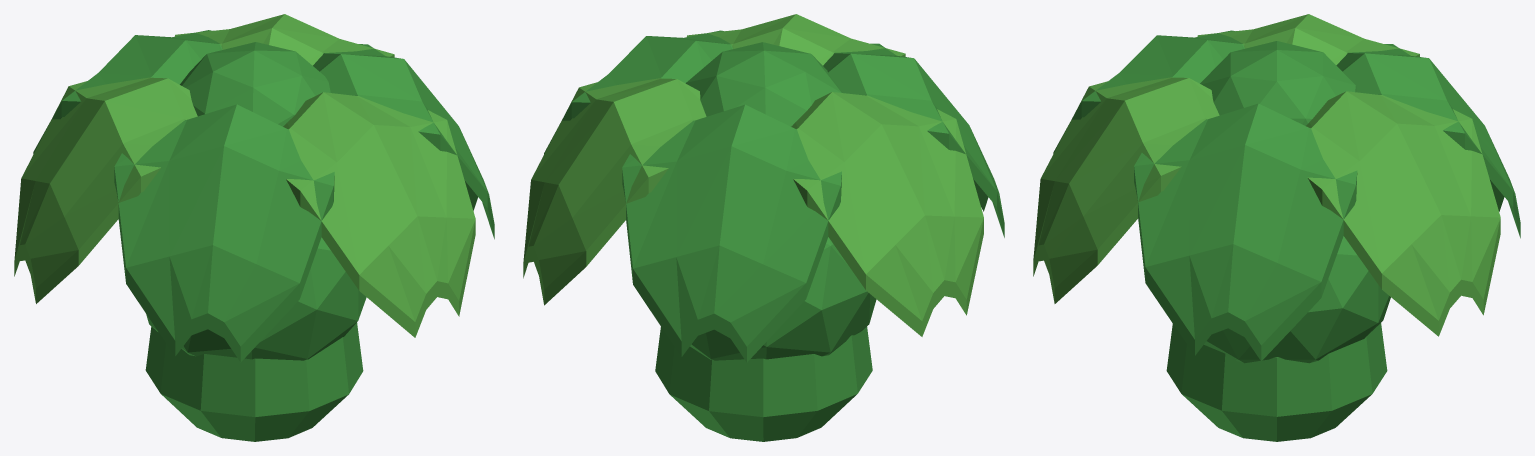
File: PalmFanLeaves.glb
The picture shows the model from 3 angles, left to right: view 1: azimuth 30°, elevation 25°; view 2: azimuth 150°, elevation 25°; view 3: azimuth 270°, elevation 25°; orthographic projection.
Visible parts, largest first — view 1: PalmFanLeaves_PalmGreen, PalmFanLeaves_PalmFold; view 2: PalmFanLeaves_PalmGreen, PalmFanLeaves_PalmFold; view 3: PalmFanLeaves_PalmGreen, PalmFanLeaves_PalmFold.
Part boxes in pixels (left/top/right/bottom): PalmFanLeaves_PalmGreen: left=33, top=30, right=494, bottom=441; PalmFanLeaves_PalmFold: left=14, top=14, right=475, bottom=337; PalmFanLeaves_PalmGreen: left=544, top=30, right=1004, bottom=441; PalmFanLeaves_PalmFold: left=523, top=14, right=983, bottom=336; PalmFanLeaves_PalmGreen: left=1053, top=30, right=1520, bottom=441; PalmFanLeaves_PalmFold: left=1033, top=14, right=1500, bottom=336.
Size of the model in its own units: 3.4 by 2.8 by 3.4.
